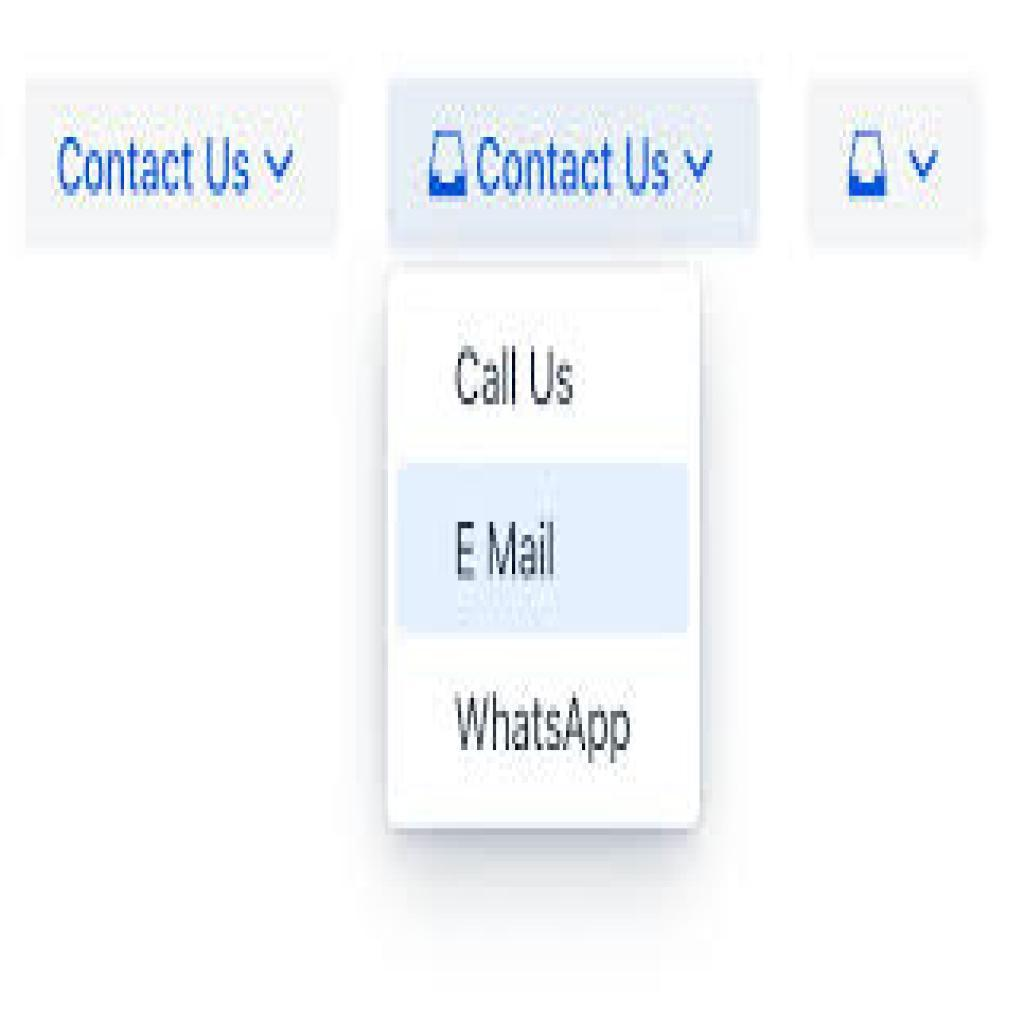button: (395, 465, 694, 631)
dropdown: (393, 80, 761, 246), (29, 100, 334, 240), (809, 79, 971, 230)
